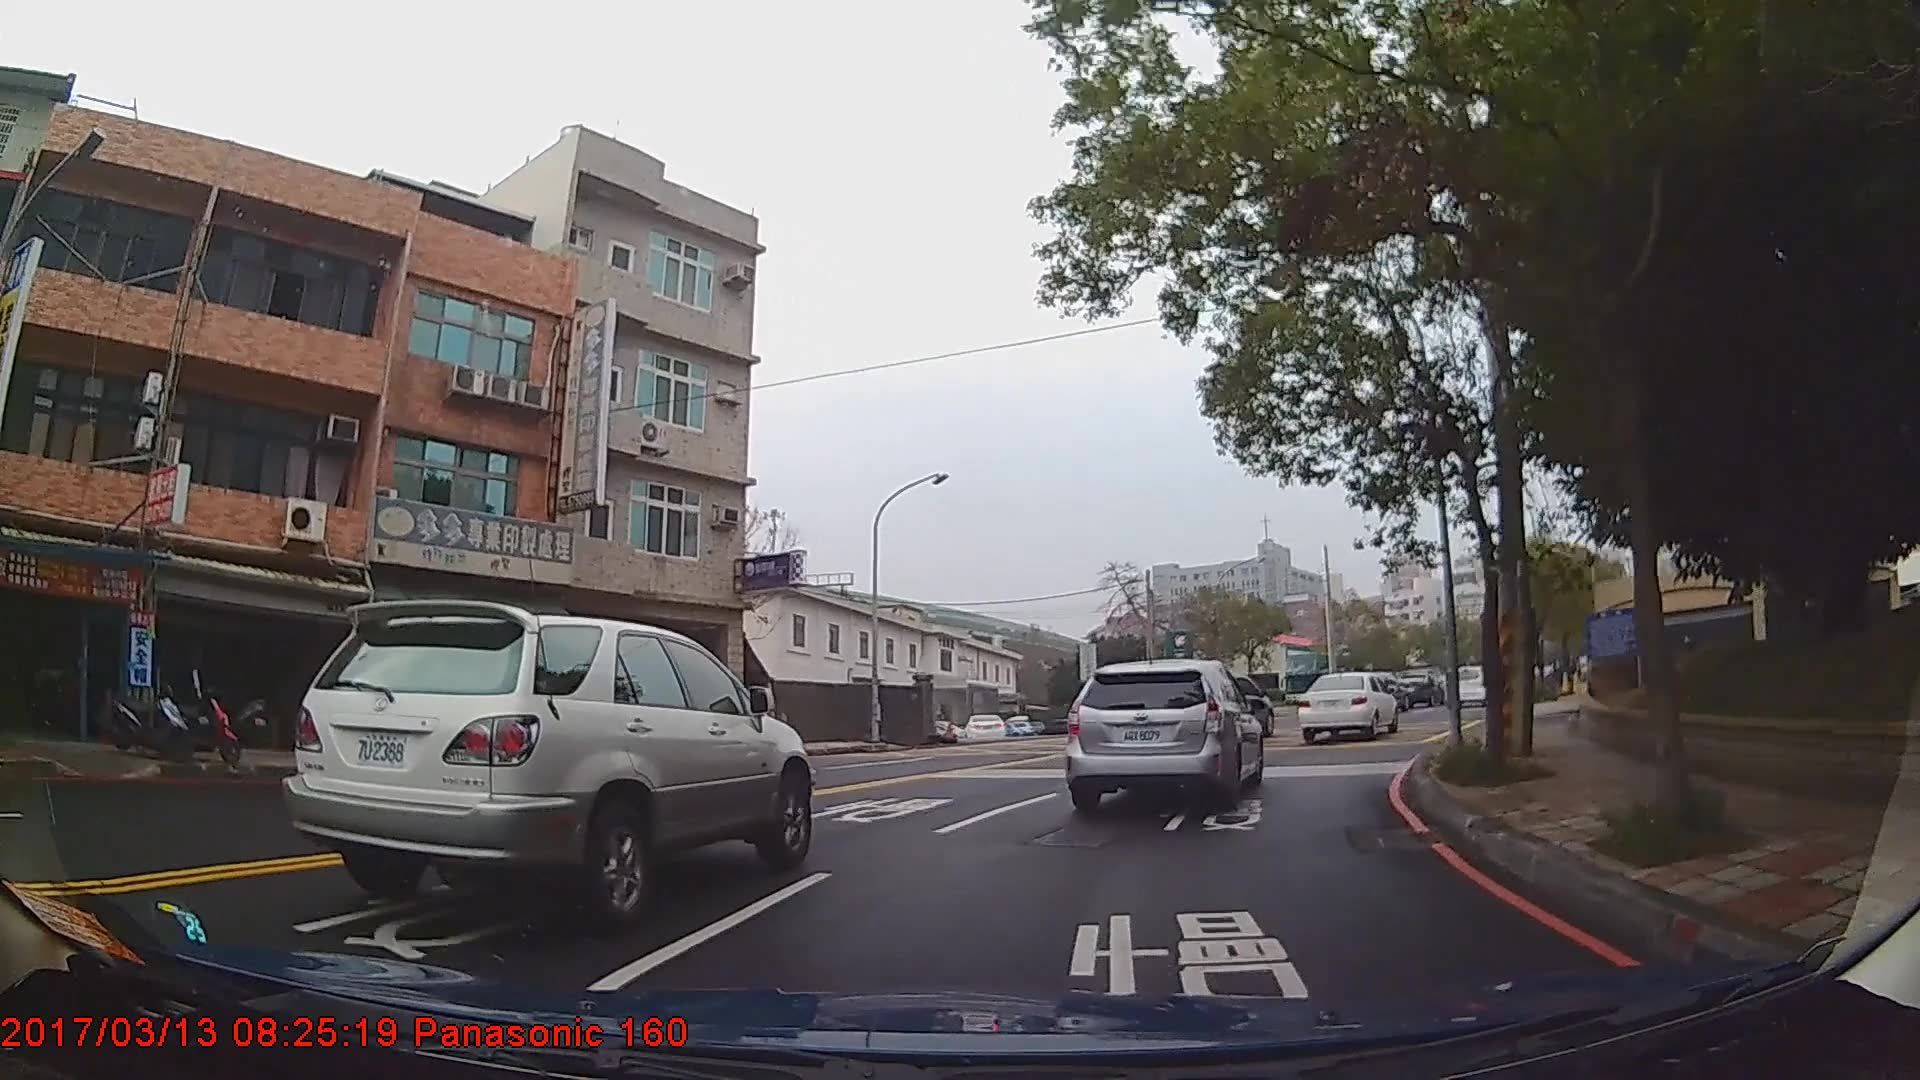vehicle: (280, 600, 815, 938), (1060, 657, 1261, 810), (1295, 671, 1399, 741), (961, 712, 1006, 741)
